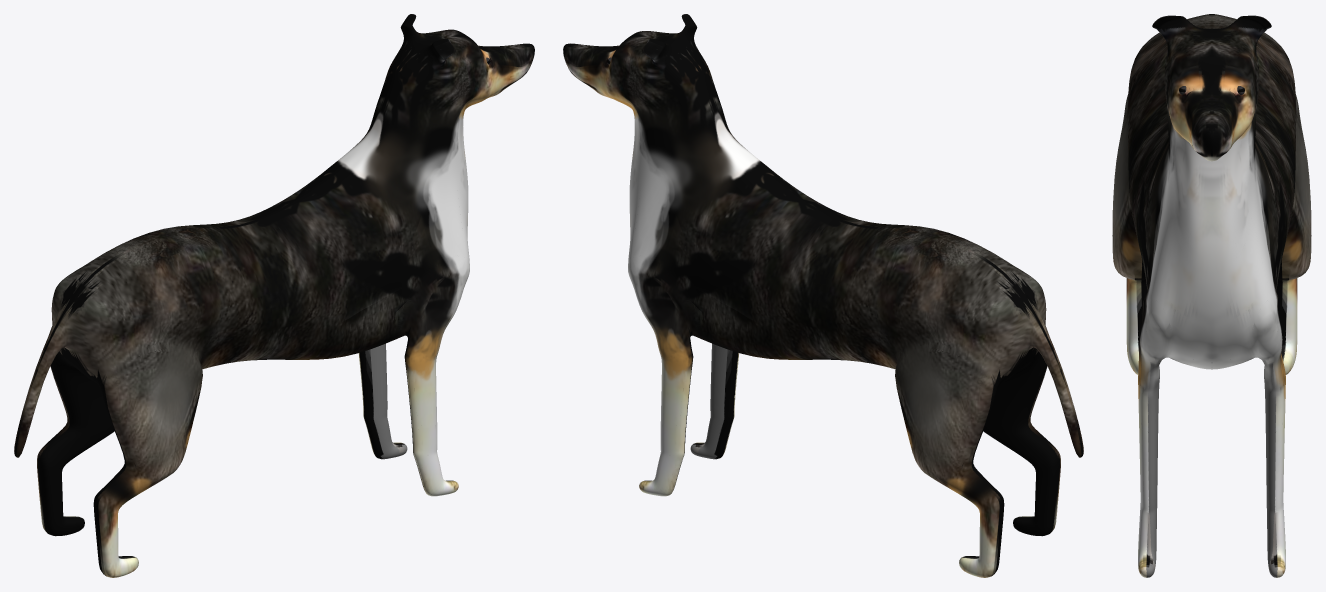
File: Trufoso2 1.fbx
3 renders of one model, left to right at view 1: azimuth 30°, elevation 25°; view 2: azimuth 150°, elevation 25°; view 3: azimuth 270°, elevation 25°, orthographic. The views are drawn at different scales.
Parts seen in each view (by area): view 1: dog; view 2: dog; view 3: dog.
Part boxes in pixels (box(x1,y1,x2,y2)): dog: box(14, 14, 534, 577); dog: box(563, 14, 1083, 577); dog: box(1112, 14, 1311, 577).
Bounding box in the file's own units: 73.39 × 60.22 × 19.23.
Materials: 3 (1 with a texture image).
